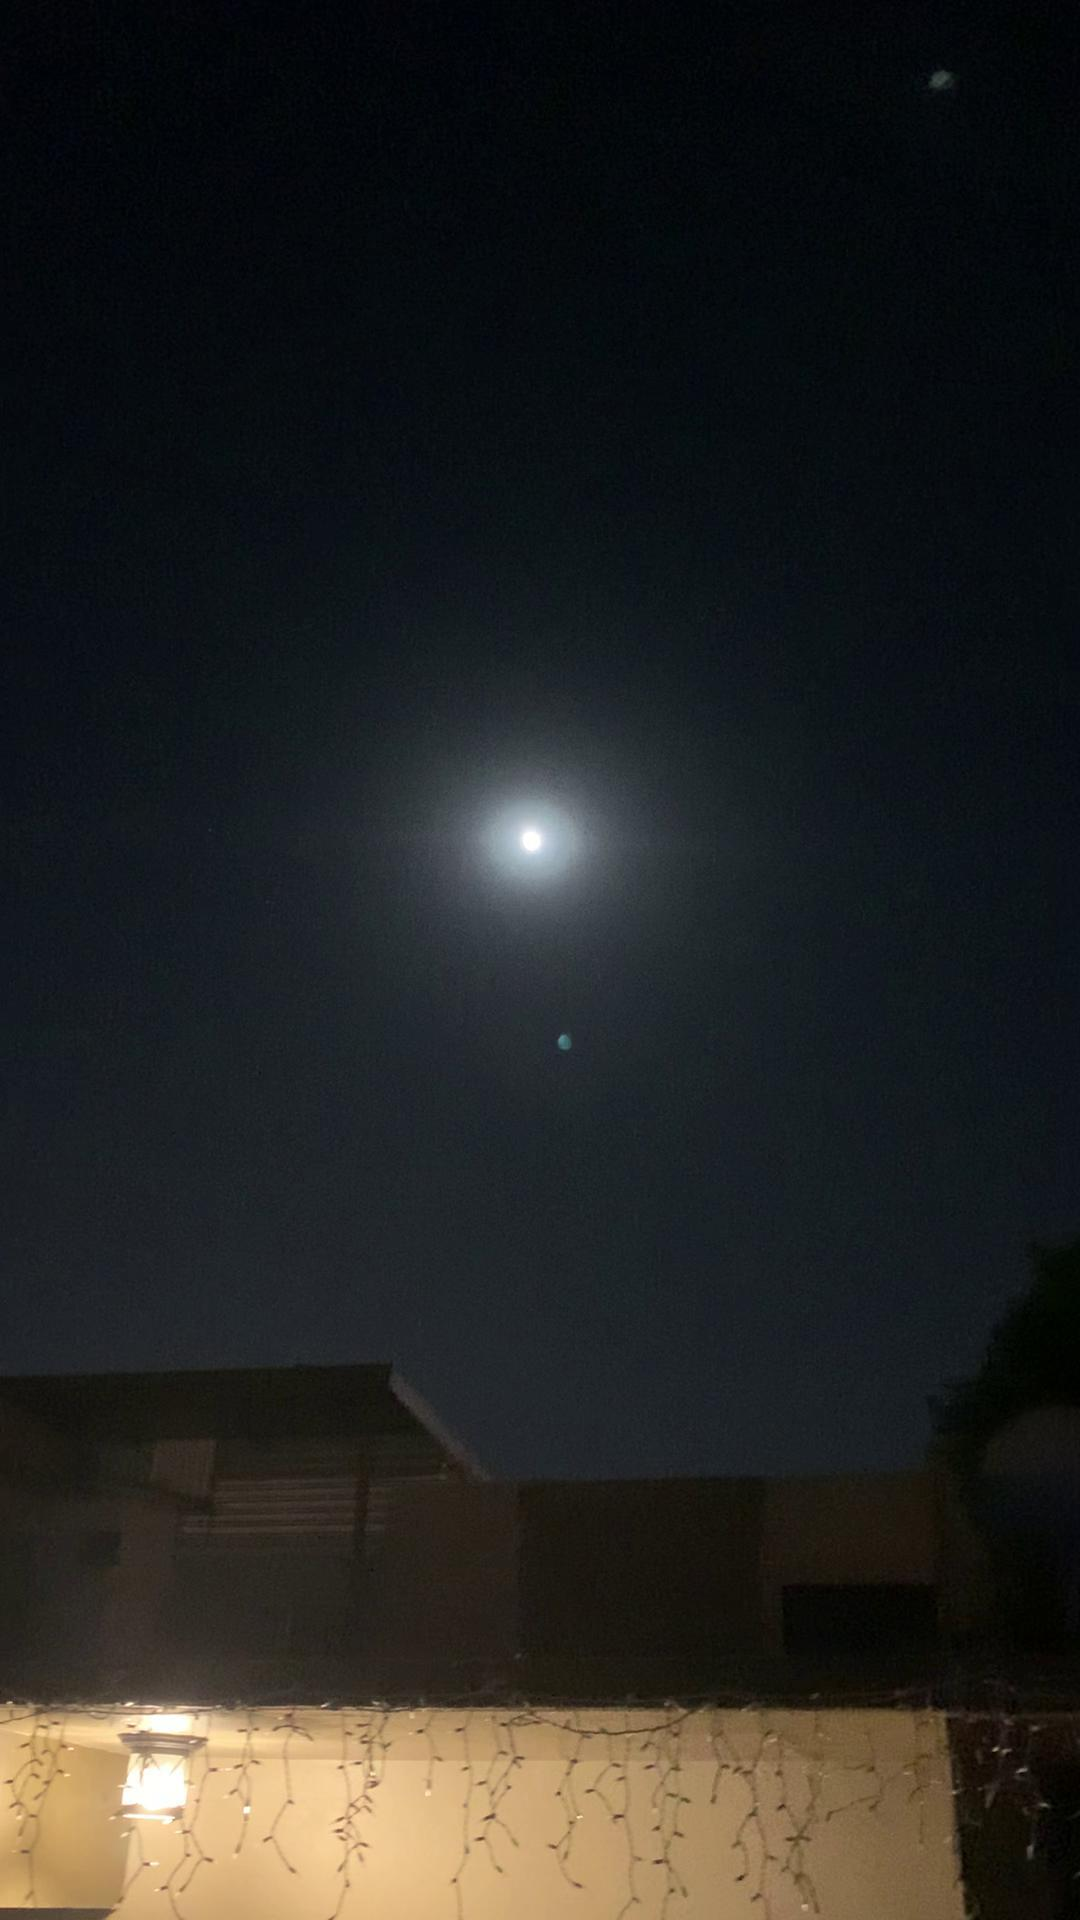moon: (491, 799, 578, 894)
